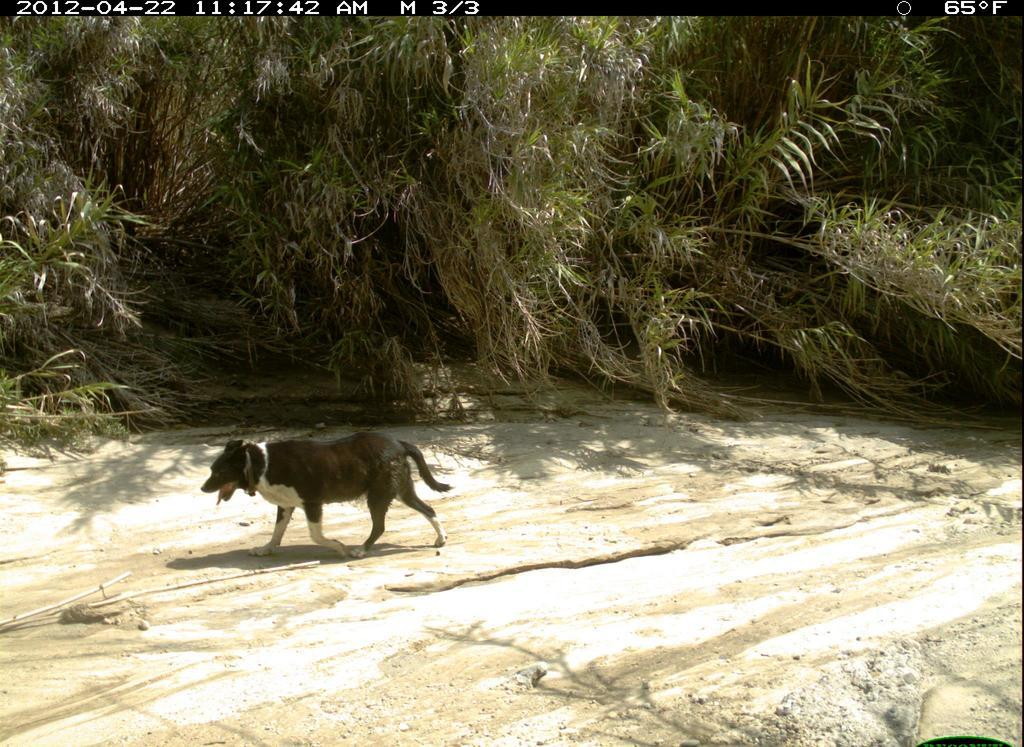dog: (194, 429, 461, 571)
